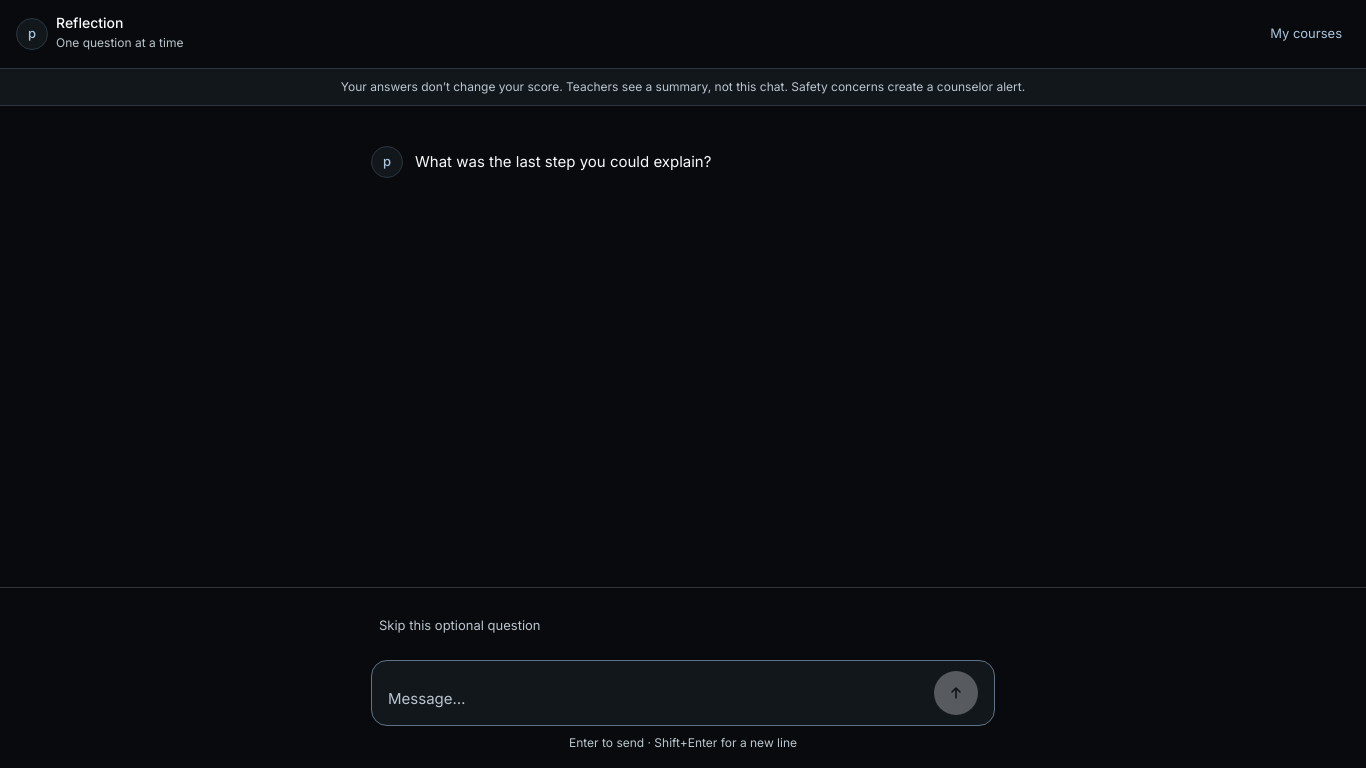
Test: ChatFlow › restores a typed answer and explains when saving fails
Type "I checked the worked example first." into the text box labelled "Message" at x=657, y=699, box [388,683,926,715]
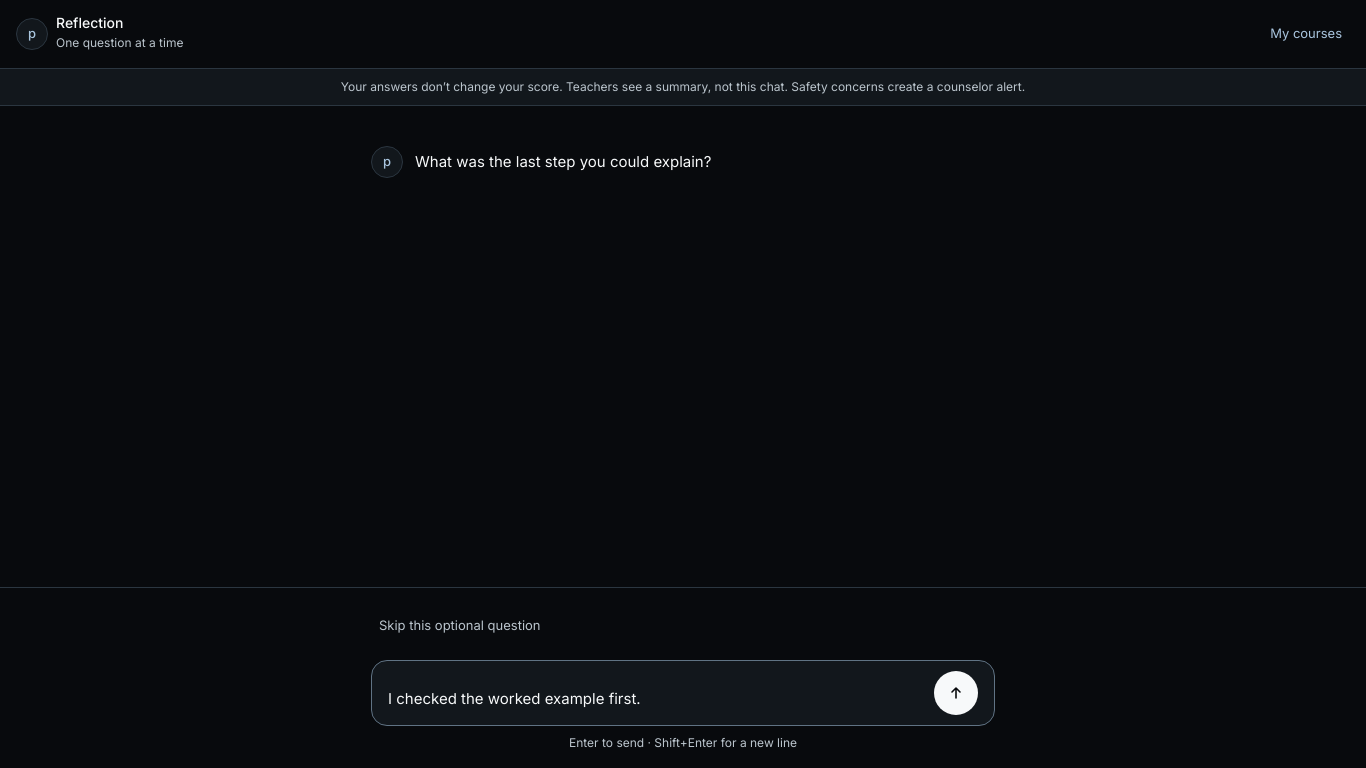
Click the button named "Send" at x=956, y=693, box [934,671,978,715]
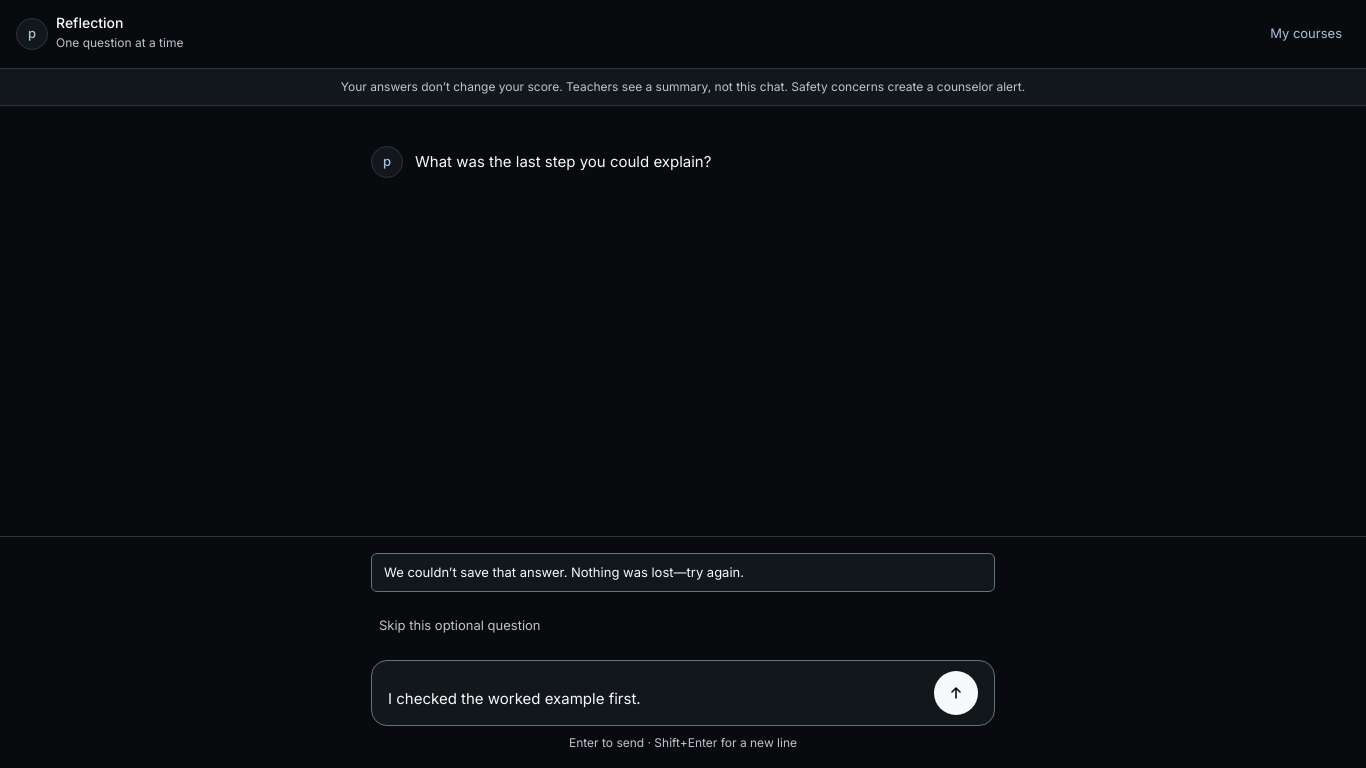
Expected: the message shows "Nothing was lost", [384,564,744,580]
